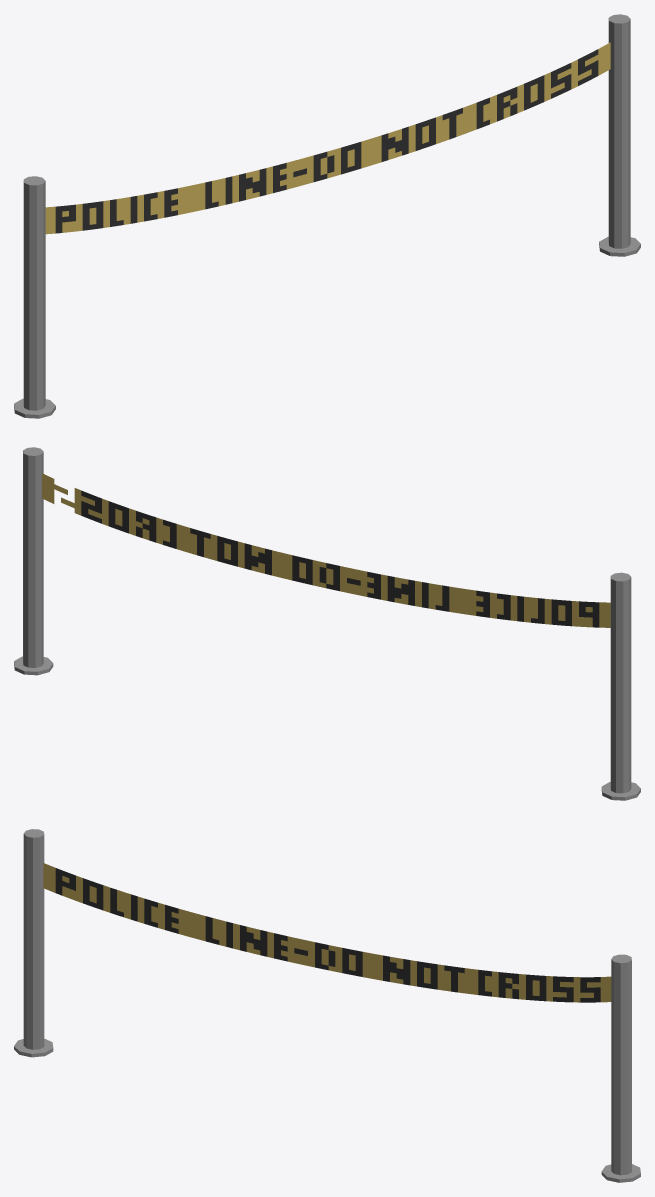
The picture shows the model from 3 angles, top to bottom: view 1: azimuth 30°, elevation 25°; view 2: azimuth 150°, elevation 25°; view 3: azimuth 330°, elevation 25°; orthographic projection. The views are drawn at different scales.
Parts seen in each view (by area): view 1: Object013_M6_0, Object014_M13_0, Cylinder.029_M5_0; view 2: Object013_M6_0, Object014_M13_0, Cylinder.029_M5_0; view 3: Object013_M6_0, Object014_M13_0, Cylinder.029_M5_0.
Part boxes in pixels (x1,y1,x2,y2): Object013_M6_0: [14, 14, 640, 418]; Object014_M13_0: [45, 42, 610, 234]; Cylinder.029_M5_0: [55, 49, 598, 233]; Object013_M6_0: [14, 447, 640, 800]; Object014_M13_0: [42, 473, 610, 627]; Cylinder.029_M5_0: [81, 490, 599, 627]; Object013_M6_0: [14, 829, 640, 1182]; Object014_M13_0: [43, 863, 611, 1002]; Cylinder.029_M5_0: [55, 868, 600, 1002].
Bounding box in the file's own units: 309 × 105 × 33.74.
